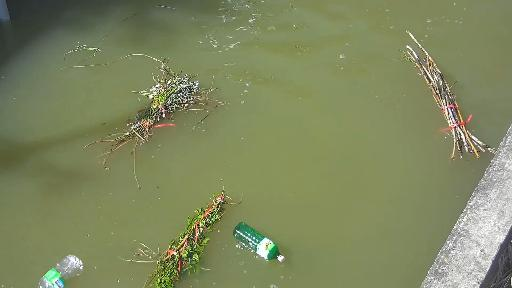plastic: (232, 215, 294, 265), (37, 247, 89, 288)
twig: (78, 6, 231, 185), (381, 17, 485, 177), (141, 188, 238, 288)
